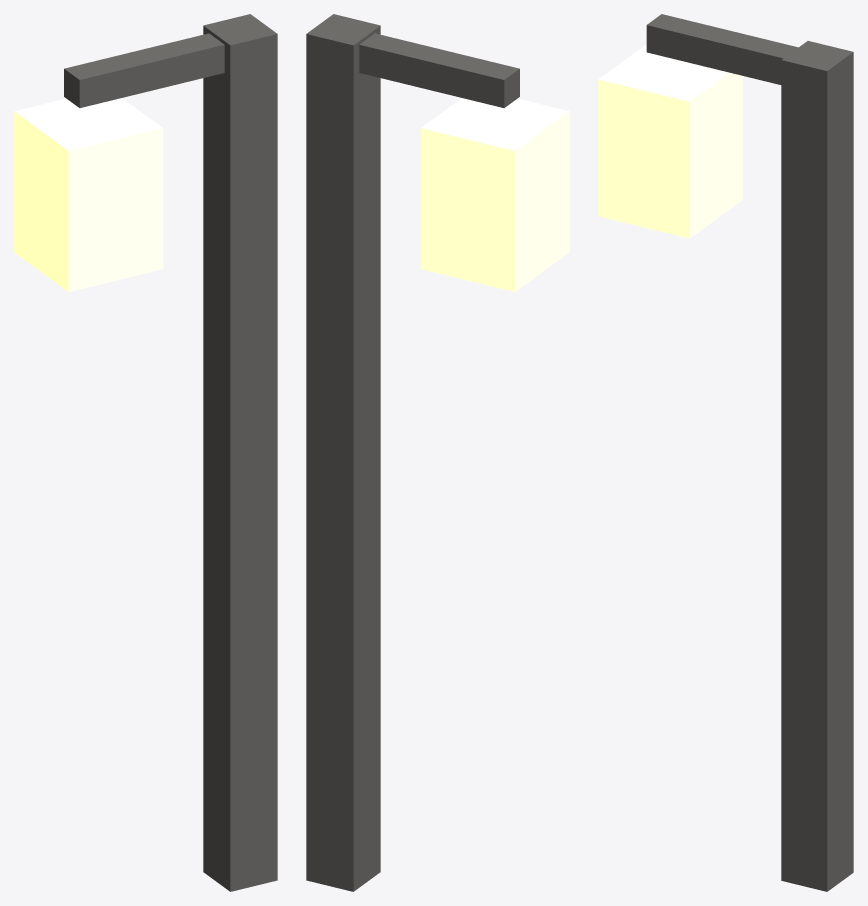
The model's file is lantern.gltf.
3 views of the same model, side by side, from view 1: azimuth 30°, elevation 25°; view 2: azimuth 150°, elevation 25°; view 3: azimuth 330°, elevation 25° (orthographic). The views are drawn at different scales.
Visible parts, largest first — view 1: post, glass, arm; view 2: post, glass, arm; view 3: post, glass, arm.
Boxes of the visible parts, bbox=[...] form: post: bbox=[203, 14, 277, 891]; glass: bbox=[14, 98, 163, 291]; arm: bbox=[64, 33, 224, 107]; post: bbox=[306, 14, 380, 891]; glass: bbox=[420, 98, 569, 291]; arm: bbox=[359, 33, 519, 107]; post: bbox=[781, 41, 853, 891]; glass: bbox=[598, 44, 742, 238]; arm: bbox=[646, 14, 798, 84].
Size of the model in its own units: 0.66 by 2.4 by 0.28.
